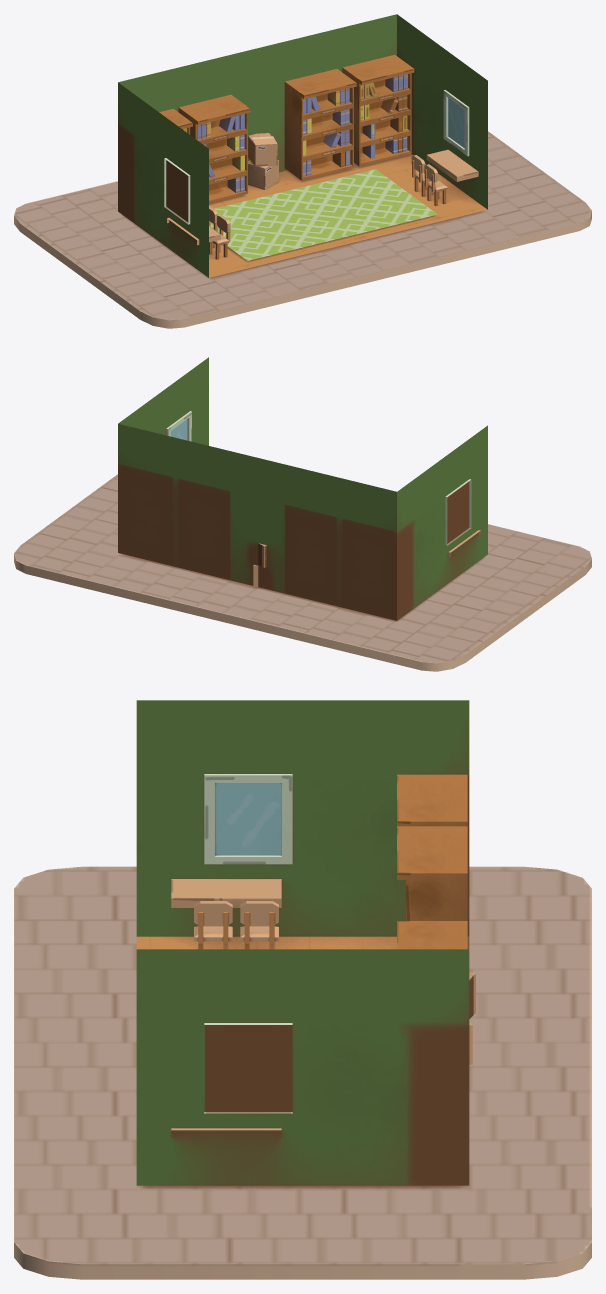
Rendered from BLD_Inside_Library.fbx.
3 renders of one model, top to bottom at view 1: azimuth 30°, elevation 25°; view 2: azimuth 150°, elevation 25°; view 3: azimuth 270°, elevation 25°, orthographic. The views are drawn at different scales.
Parts seen in each view (by area): view 1: Cube.066, Cube.112, Cube.069, Cube.110, Cube.079, Cube.111, Cube.108, Cube.106, Cube.077, Cube.085; view 2: Cube.066, Cube.112, Cube.111; view 3: Cube.066, Cube.112, Cube.069, Cube.111, Cube.108, Cube.106.
Part boxes in pixels (left/top/right/bottom): Cube.066: left=118, top=14, right=487, bottom=277; Cube.112: left=14, top=131, right=591, bottom=328; Cube.069: left=159, top=54, right=414, bottom=202; Cube.110: left=210, top=169, right=437, bottom=260; Cube.079: left=182, top=74, right=407, bottom=192; Cube.111: left=164, top=90, right=469, bottom=224; Cube.108: left=209, top=155, right=447, bottom=259; Cube.106: left=167, top=149, right=478, bottom=245; Cube.077: left=248, top=133, right=277, bottom=166; Cube.085: left=248, top=160, right=278, bottom=189; Cube.066: left=118, top=357, right=487, bottom=620; Cube.112: left=14, top=474, right=591, bottom=671; Cube.111: left=166, top=411, right=471, bottom=545; Cube.066: left=136, top=700, right=469, bottom=1185; Cube.112: left=14, top=866, right=591, bottom=1279; Cube.069: left=397, top=774, right=467, bottom=949; Cube.111: left=204, top=774, right=292, bottom=1113; Cube.108: left=194, top=901, right=278, bottom=949; Cube.106: left=171, top=879, right=281, bottom=1130.
Bounding box in the file's own units: 1698 × 510 × 1043.
1 material, 1 textured.
